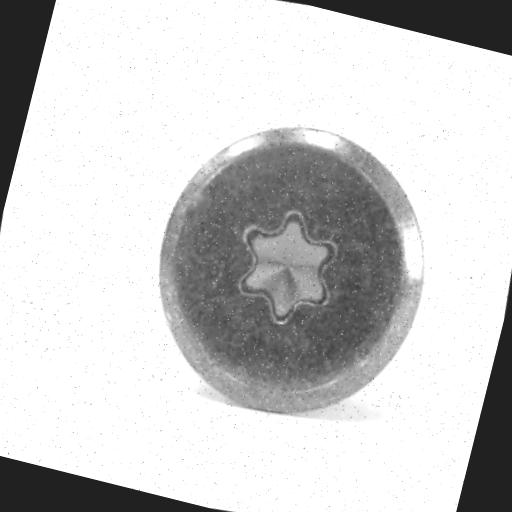Torx: (127, 96, 458, 441)
